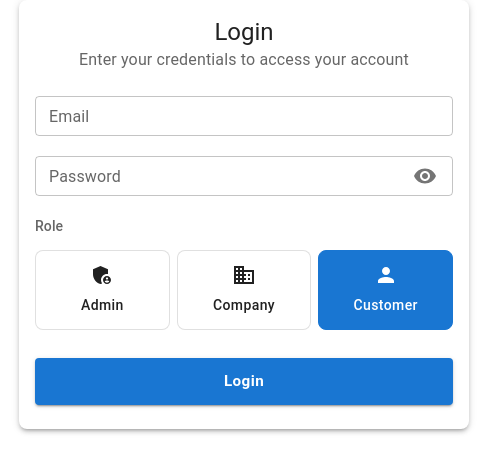
Test: LoginForm › Password Validation › should show error for empty password on blur
Click the password field labelled "Password" at (218, 176), box [35,156,400,196]
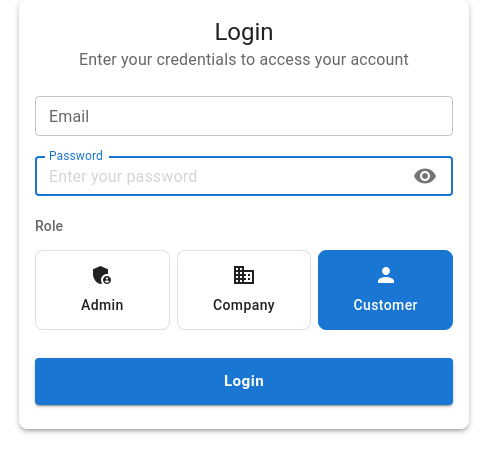
Press Tab
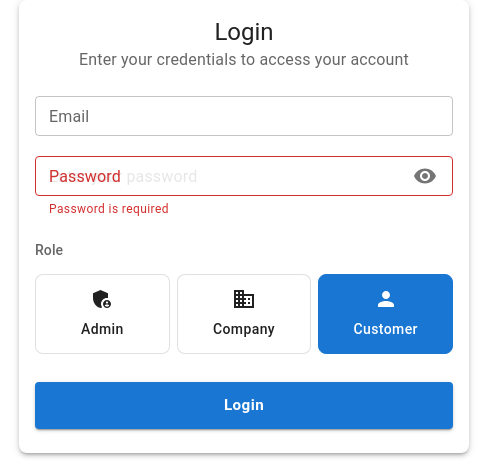
Check: the text "Password is required" is shown, box [49,202,169,216]
